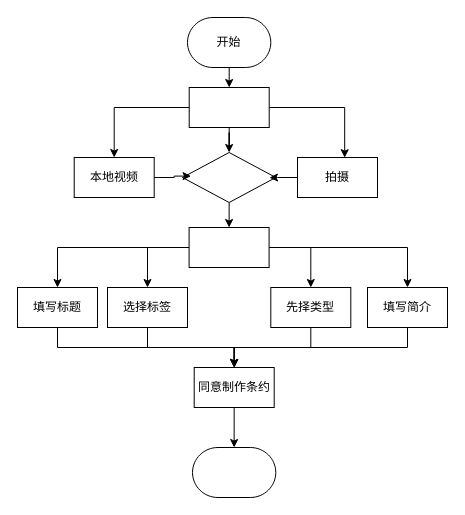
The diagram is 465 pixels wide and 515 high, and some of its shapes have lost their labels. Each missing label, with the box of its shape:
上传: (182, 152, 276, 202)
创作: (188, 86, 269, 128)
发布: (192, 446, 276, 498)
填写视频信息: (188, 226, 269, 268)
